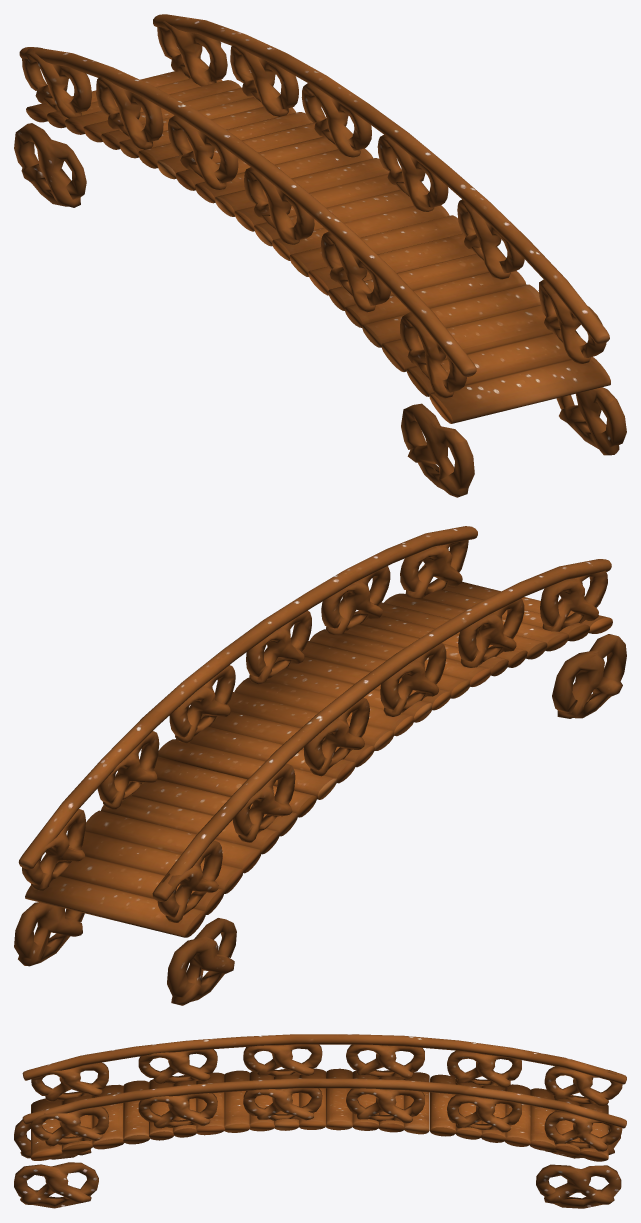
Rendered from pretzel_bridge_v2.glb.
3 views of the same model, one above another, from view 1: azimuth 30°, elevation 25°; view 2: azimuth 150°, elevation 25°; view 3: azimuth 270°, elevation 25° (orthographic). The views are drawn at different scales.
Visible parts, largest first — view 1: pretzel_bridge; view 2: pretzel_bridge; view 3: pretzel_bridge.
Boxes of the visible parts, x1,y1,x2,y2 form: pretzel_bridge: [14, 14, 626, 497]; pretzel_bridge: [14, 526, 626, 1005]; pretzel_bridge: [14, 1034, 626, 1208].
Size of the model in its own units: 3.54 by 3.63 by 15.85.
Materials: 1 (1 with a texture image).
